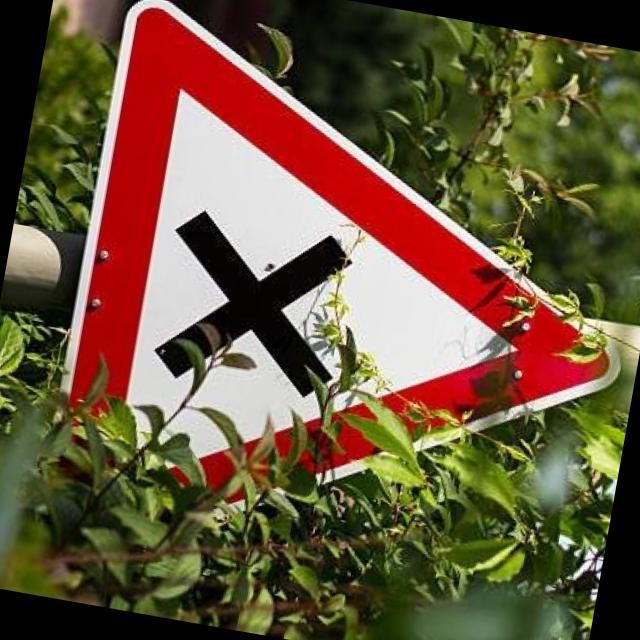obstructed_road_sign: (27, 0, 619, 570)
